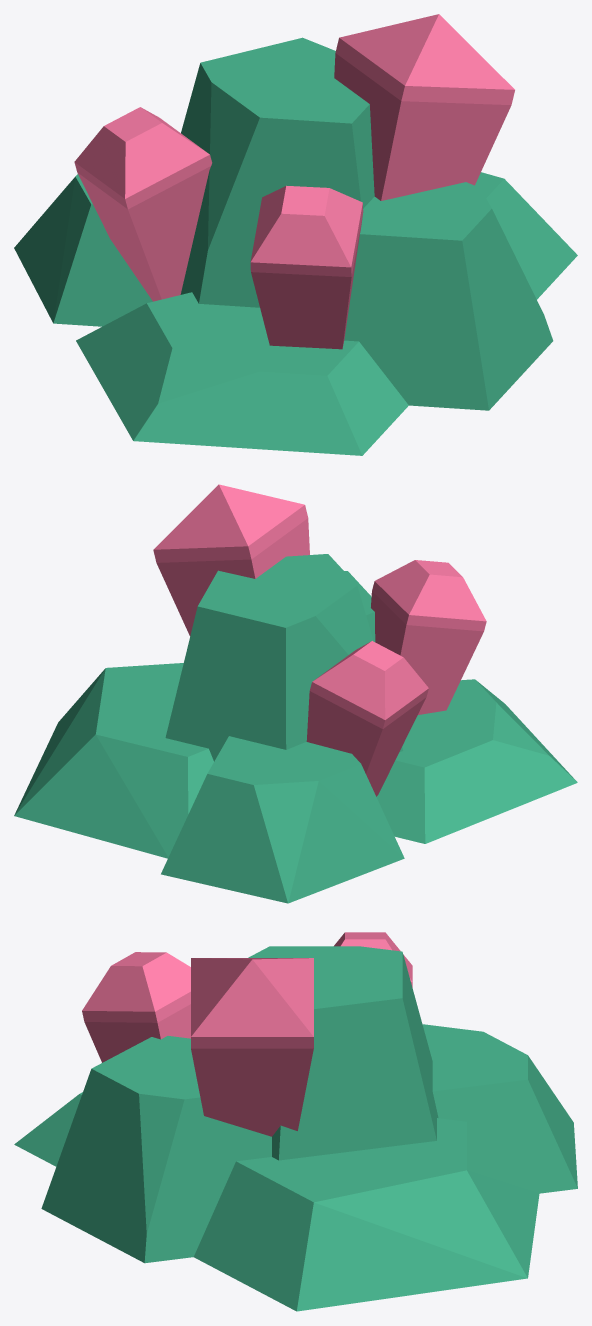
File: snowDetailCrystalLarge.fbx
The picture shows the model from 3 angles, top to bottom: view 1: azimuth 30°, elevation 25°; view 2: azimuth 150°, elevation 25°; view 3: azimuth 270°, elevation 25°; orthographic projection. The views are drawn at different scales.
Parts seen in each view (by area): view 1: rocks, crystal (×3); view 2: rocks, crystal (×3); view 3: rocks, crystal (×3).
Part boxes in pixels (<box>): rocks: <box>14,37,577,455</box>; crystal (×3): <box>74,14,514,349</box>; rocks: <box>14,554,577,903</box>; crystal (×3): <box>153,484,486,796</box>; rocks: <box>14,946,577,1311</box>; crystal (×3): <box>82,932,412,1136</box>.
Size of the model in its own units: 1 by 0.5444 by 1.
